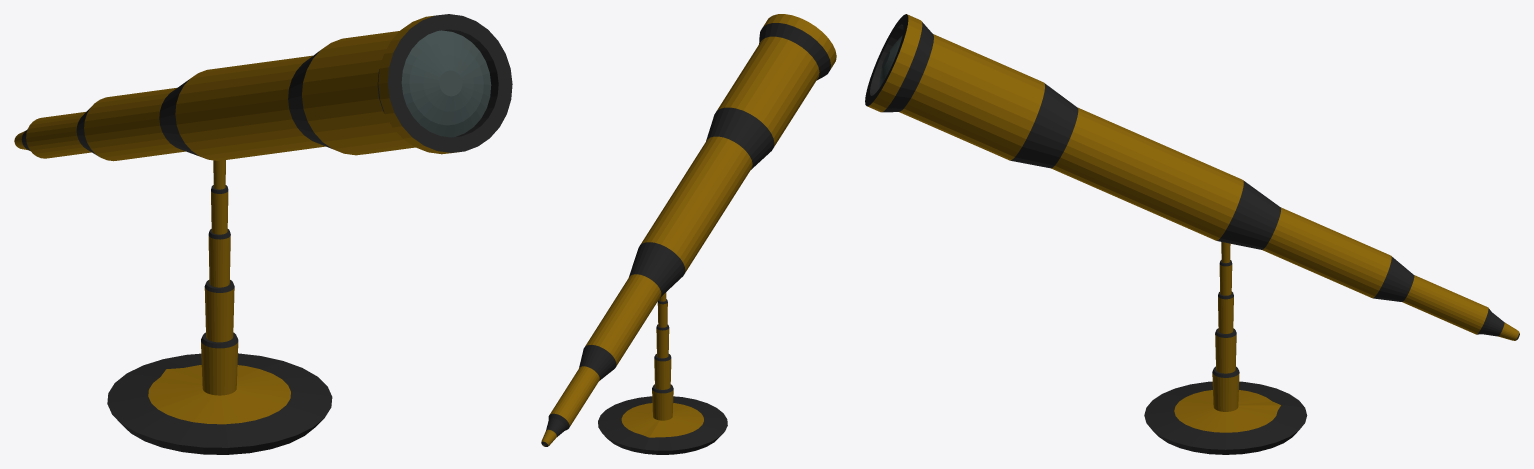
The model's file is Telescope.fbx.
3 renders of one model, left to right at view 1: azimuth 30°, elevation 25°; view 2: azimuth 150°, elevation 25°; view 3: azimuth 270°, elevation 25°, orthographic. The views are drawn at different scales.
Parts seen in each view (by area): view 1: Cylinder; view 2: Cylinder; view 3: Cylinder.
Part boxes in pixels (x1,y1,x2,y2): Cylinder: [14, 14, 512, 454]; Cylinder: [541, 14, 836, 454]; Cylinder: [865, 14, 1519, 454].
Bounding box in the file's own units: 454 × 1239 × 1824.
